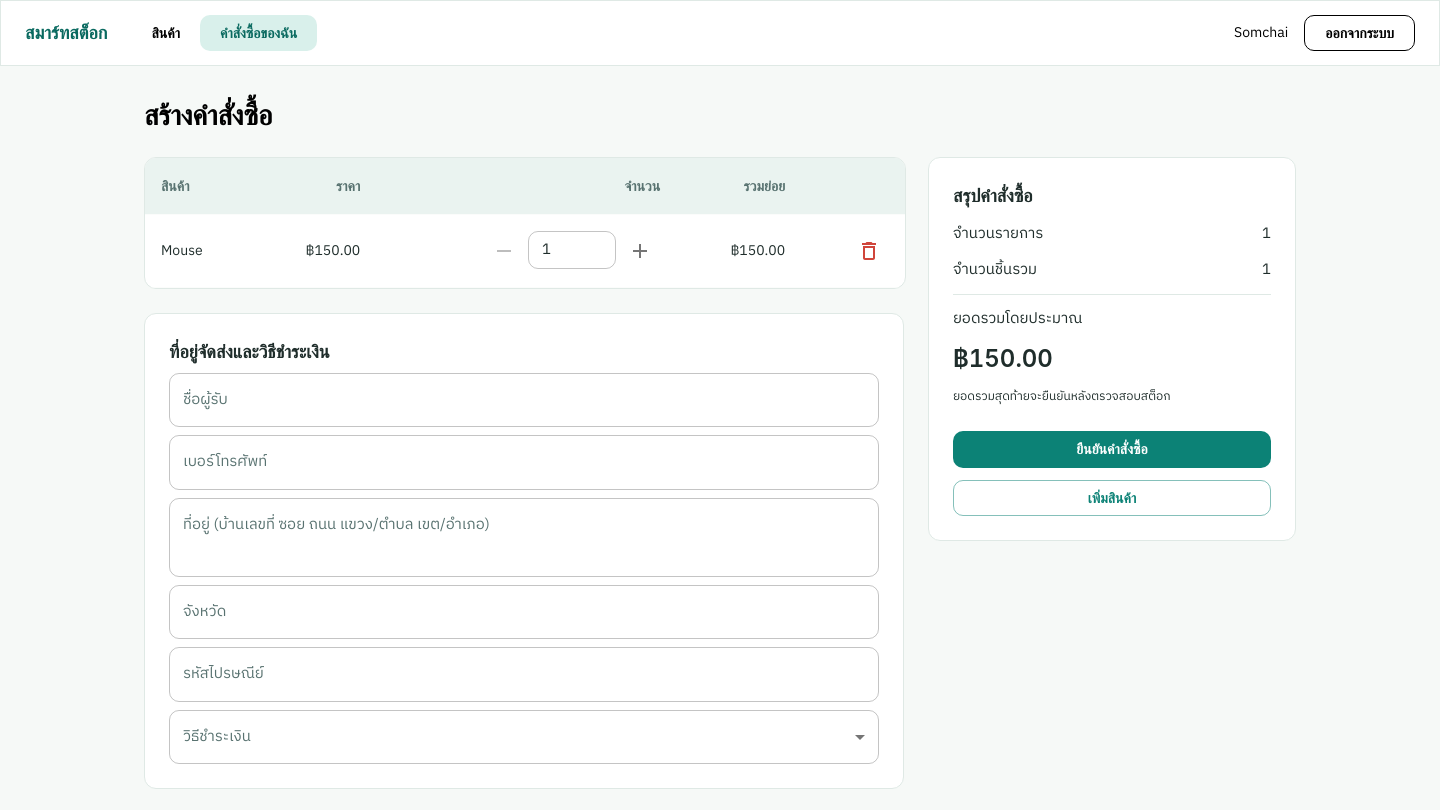
shows errors and sends nothing when the delivery form is empty
Click the button "ยืนยันคำสั่งซื้อ".
click(1112, 450)  # box [953, 431, 1271, 468]
(page scrolled)
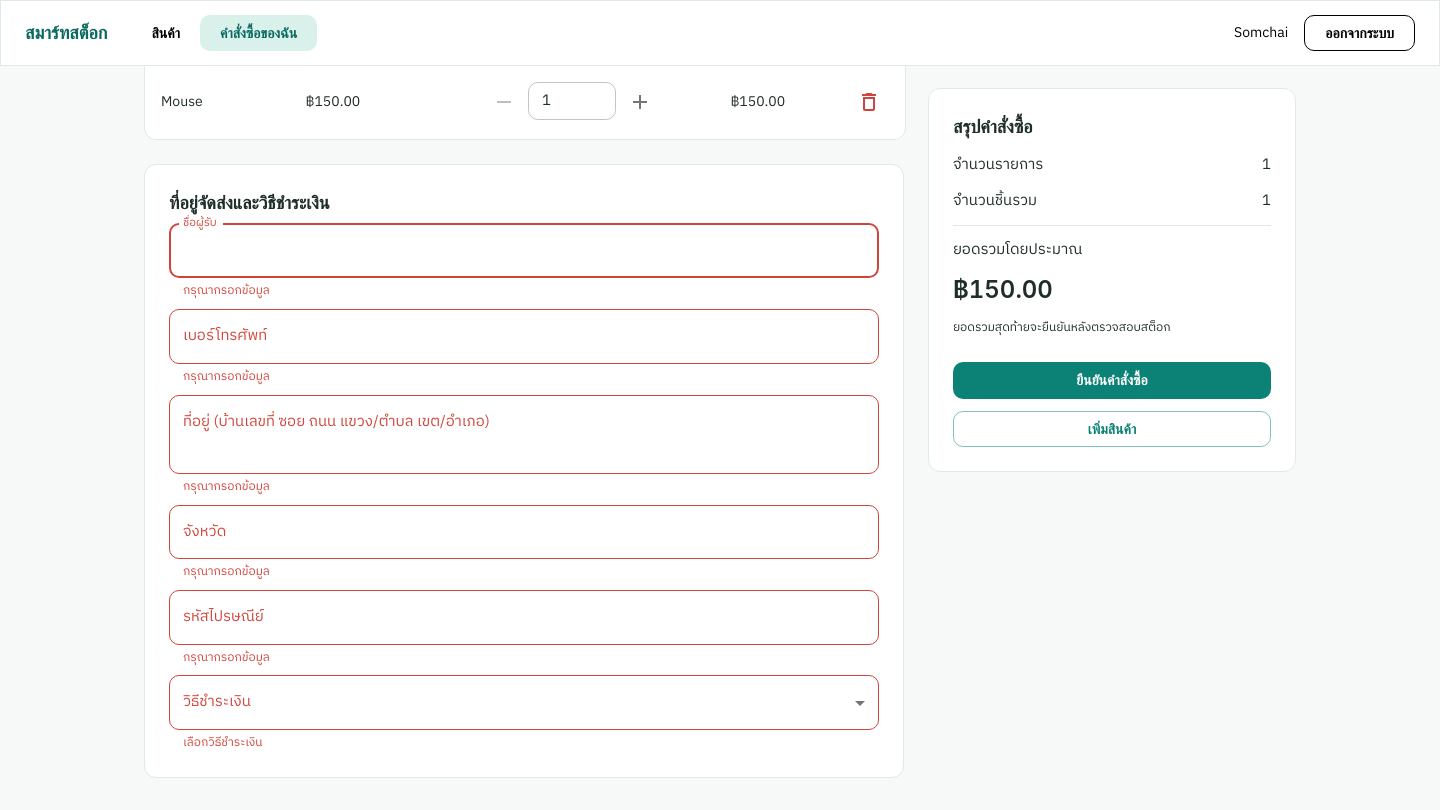
Expected: the text "กรุณากรอกข้อมูล" is shown 5 times, [183, 281, 270, 300]; [183, 367, 270, 386]; [183, 477, 270, 496]; [183, 562, 270, 581]; [183, 648, 270, 666]
Expected: the text "เลือกวิธีชำระเงิน" is shown, [183, 733, 263, 752]
